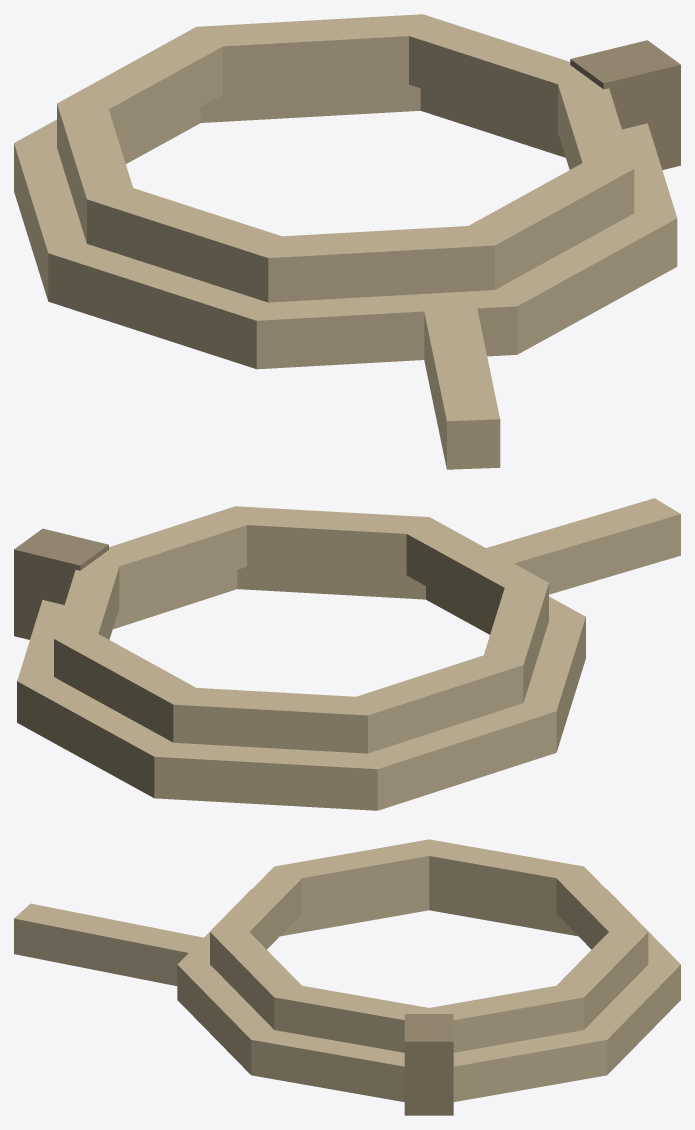
Rendered from prop-guy-line-coil.fbx.
The picture shows the model from 3 angles, top to bottom: view 1: azimuth 30°, elevation 25°; view 2: azimuth 150°, elevation 25°; view 3: azimuth 270°, elevation 25°; orthographic projection. The views are drawn at different scales.
Parts seen in each view (by area): view 1: prop-guy-line-coil; view 2: prop-guy-line-coil; view 3: prop-guy-line-coil.
Boxes of the visible parts, x1,y1,x2,y2 form: prop-guy-line-coil: (14,14,680,469); prop-guy-line-coil: (14,498,680,810); prop-guy-line-coil: (14,839,680,1115).
Size of the model in its own units: 31.9 by 5 by 40.8.
